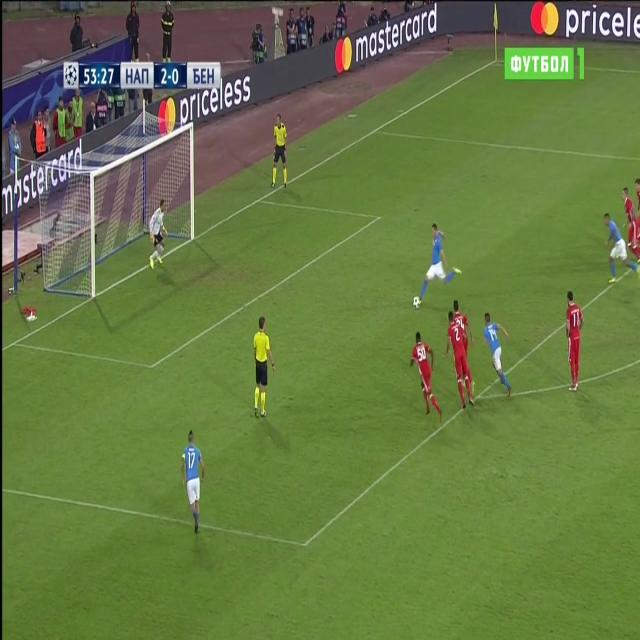Ball: (412, 293, 421, 312)
Goalkeeper: (147, 197, 169, 273)
Player: (421, 219, 464, 305), (408, 329, 444, 423), (602, 209, 640, 287), (446, 313, 475, 415), (481, 308, 513, 397), (180, 428, 206, 536), (565, 290, 587, 394), (622, 183, 640, 260), (451, 298, 473, 352)
Referee: (251, 316, 277, 422), (269, 113, 291, 192)
